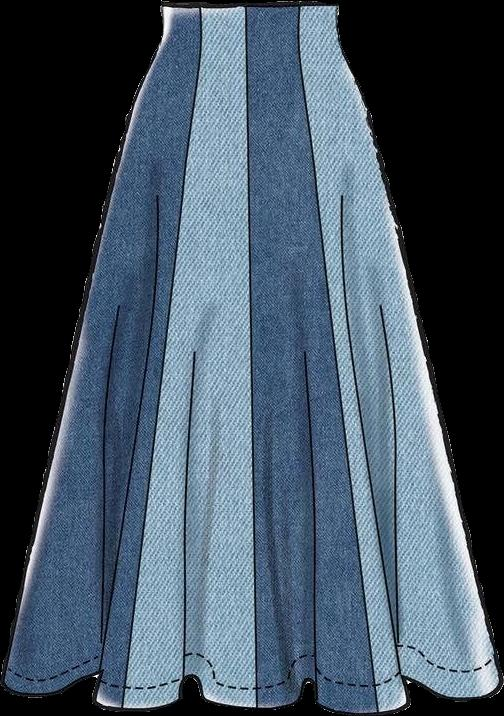Hemline: (0, 671, 503, 715)
Waistline: (158, 1, 339, 17)
